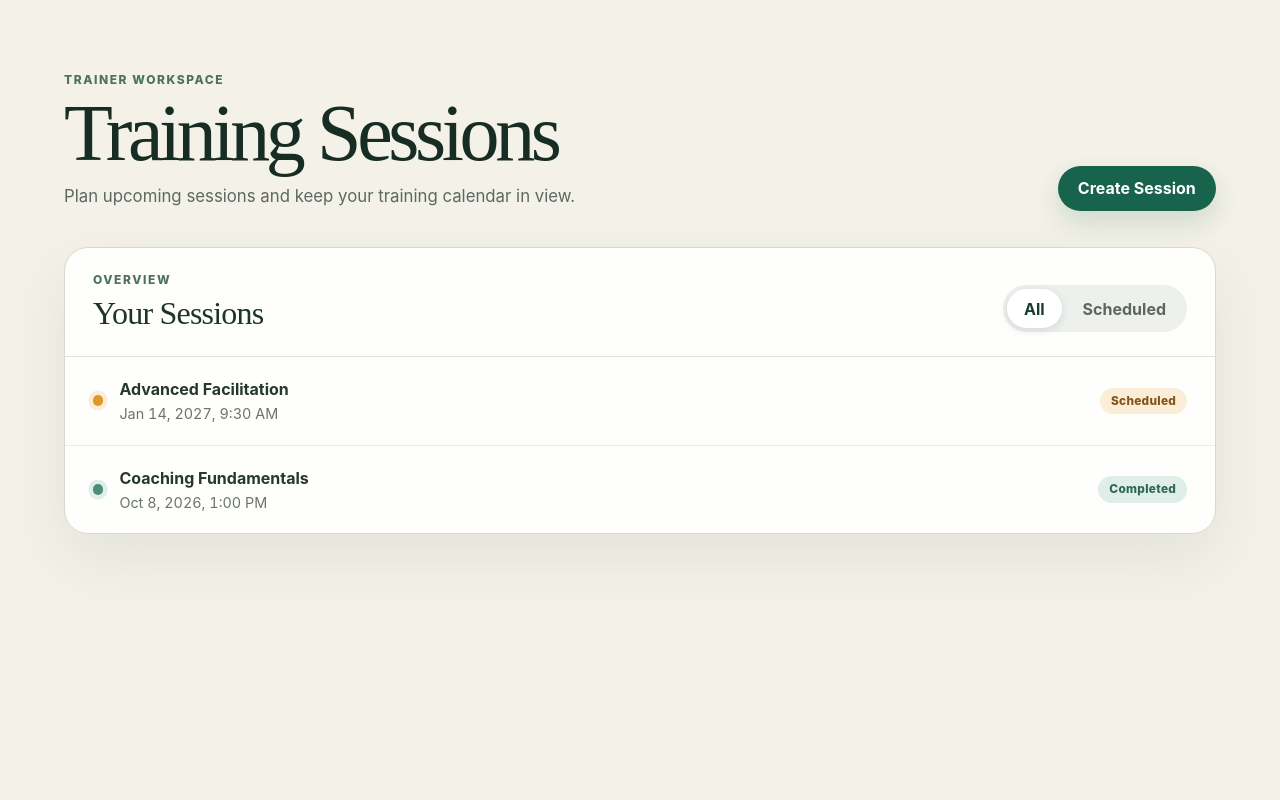
Test: Training Sessions workspace › prevents a second create while the first request is pending
expect the heading "Advanced Facilitation" is shown: met, box [119,379,289,401]
Click the button "Create Session" at (1137, 188), box [1058,166,1216,211]
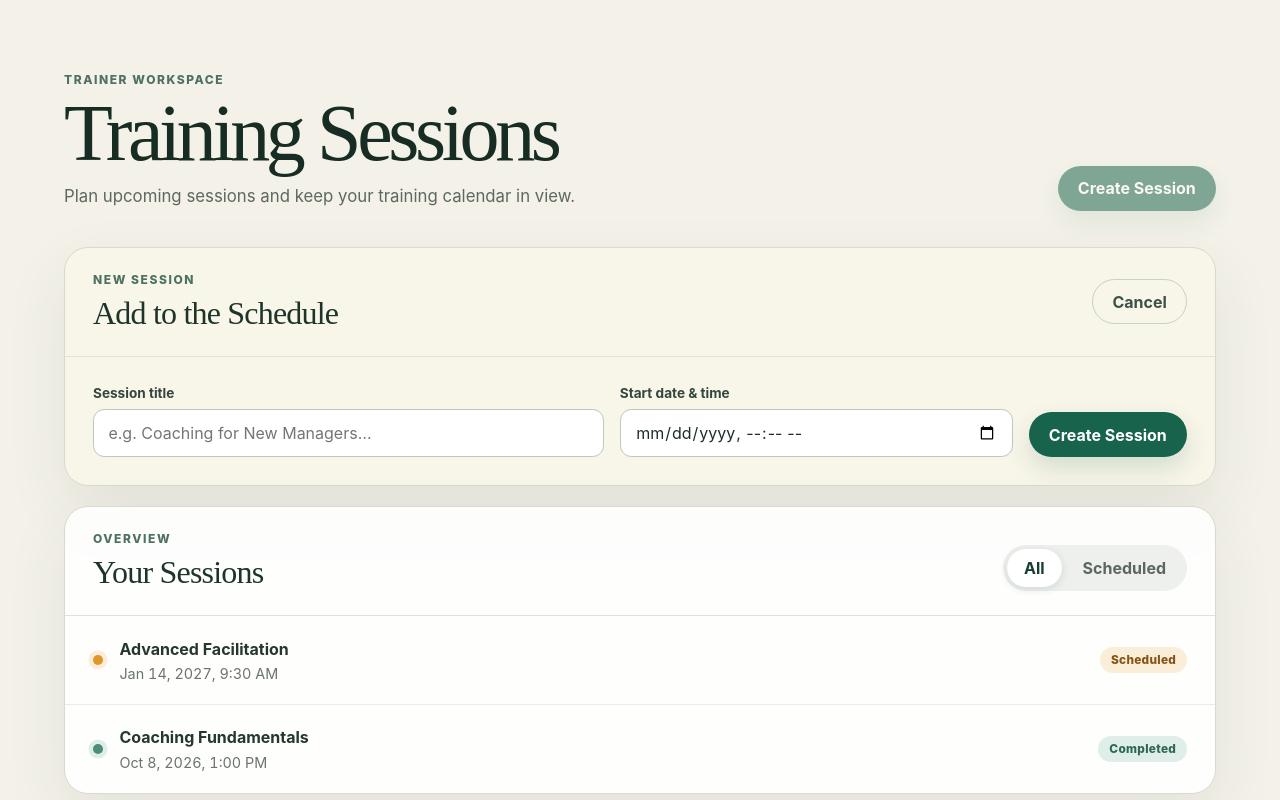
Type "Pending Session" into the field labelled "Session title" at (348, 433), box [93,409,604,457]
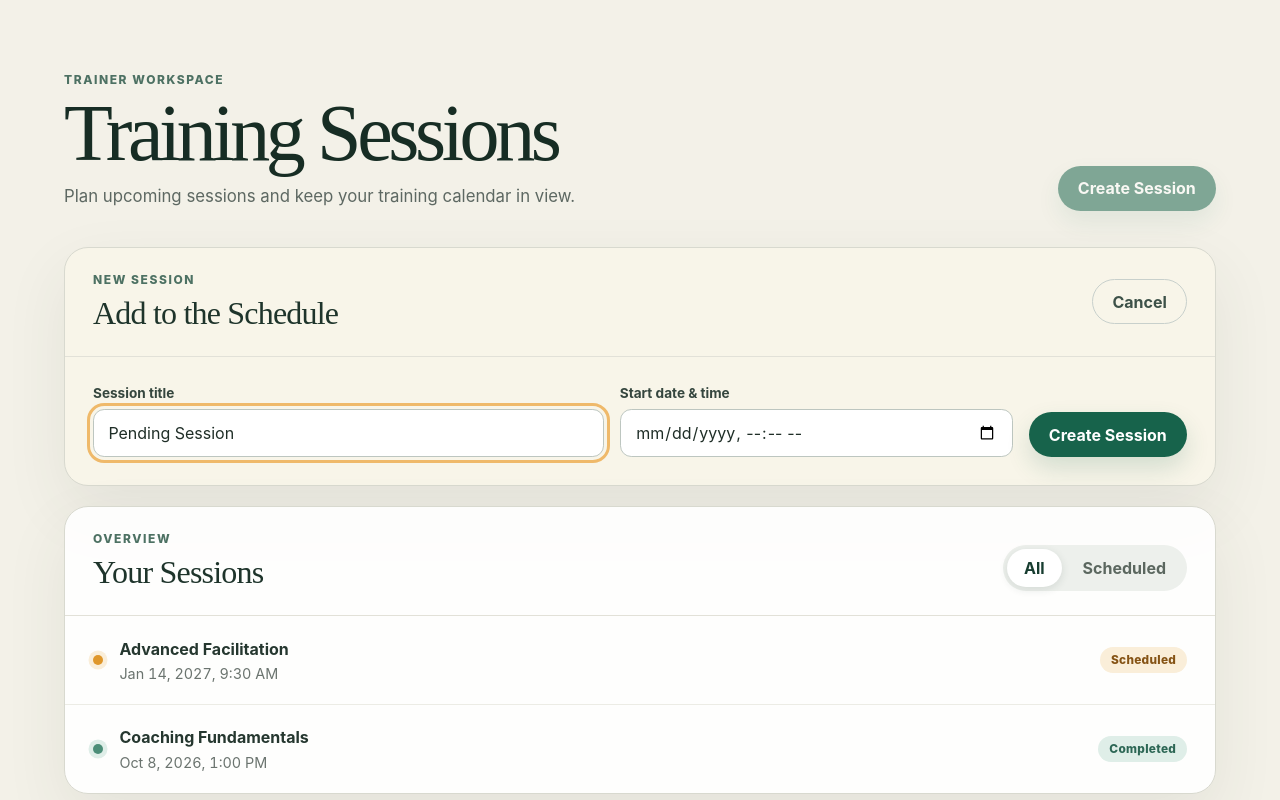
Type "2099-06-18T12:30" into the field labelled "Start date & time" at (816, 433), box [620,409,1013,457]
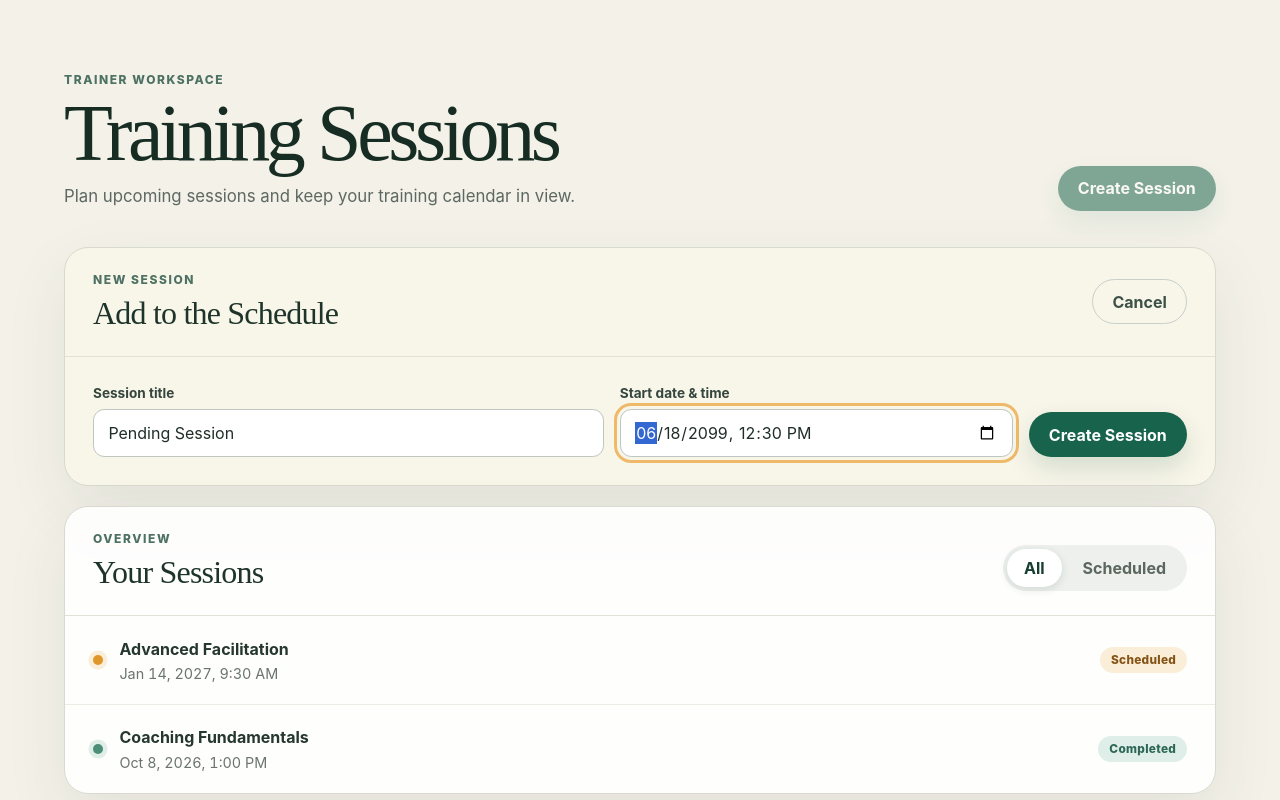
Click the 2nd button "Create Session" at (1108, 435), box [1029,412,1187,457]
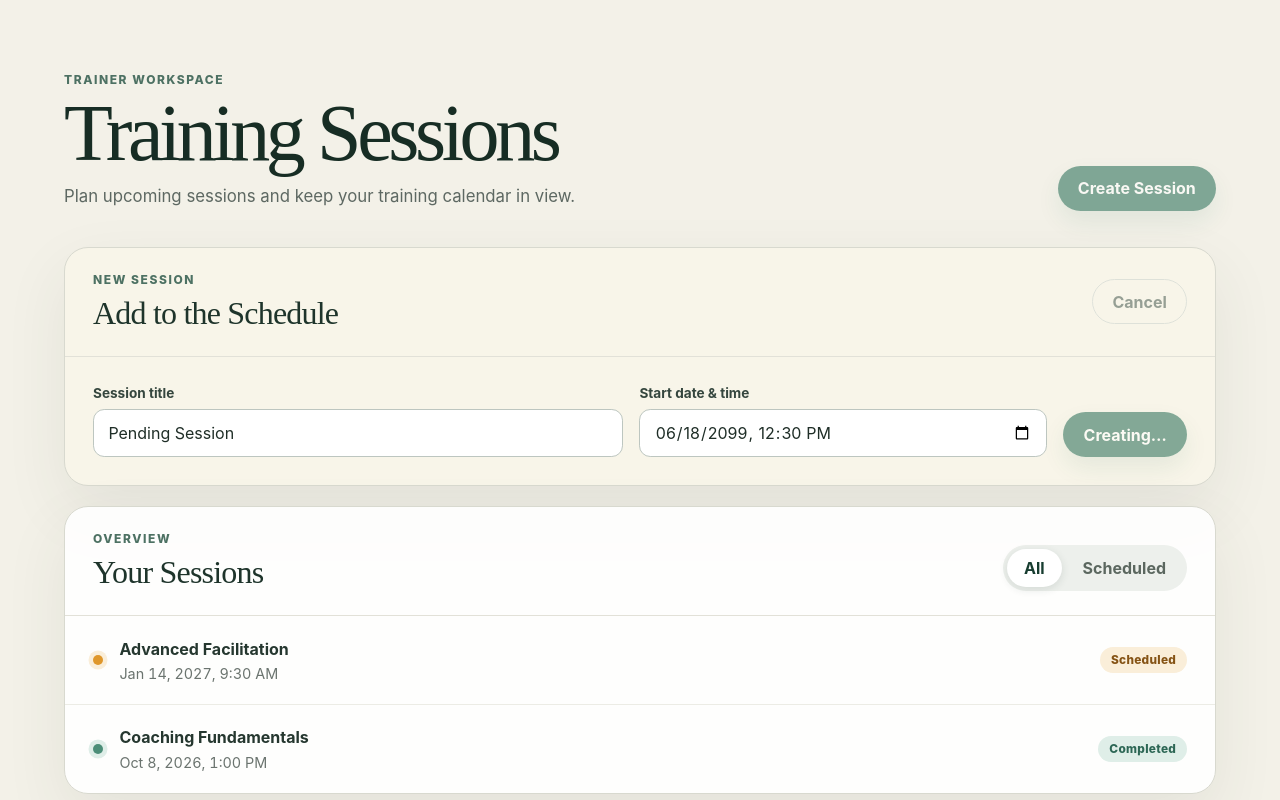
expect the button "Creating…" is disabled: met
Click the button "Creating…" at (1125, 435), box [1063,412,1187,457]
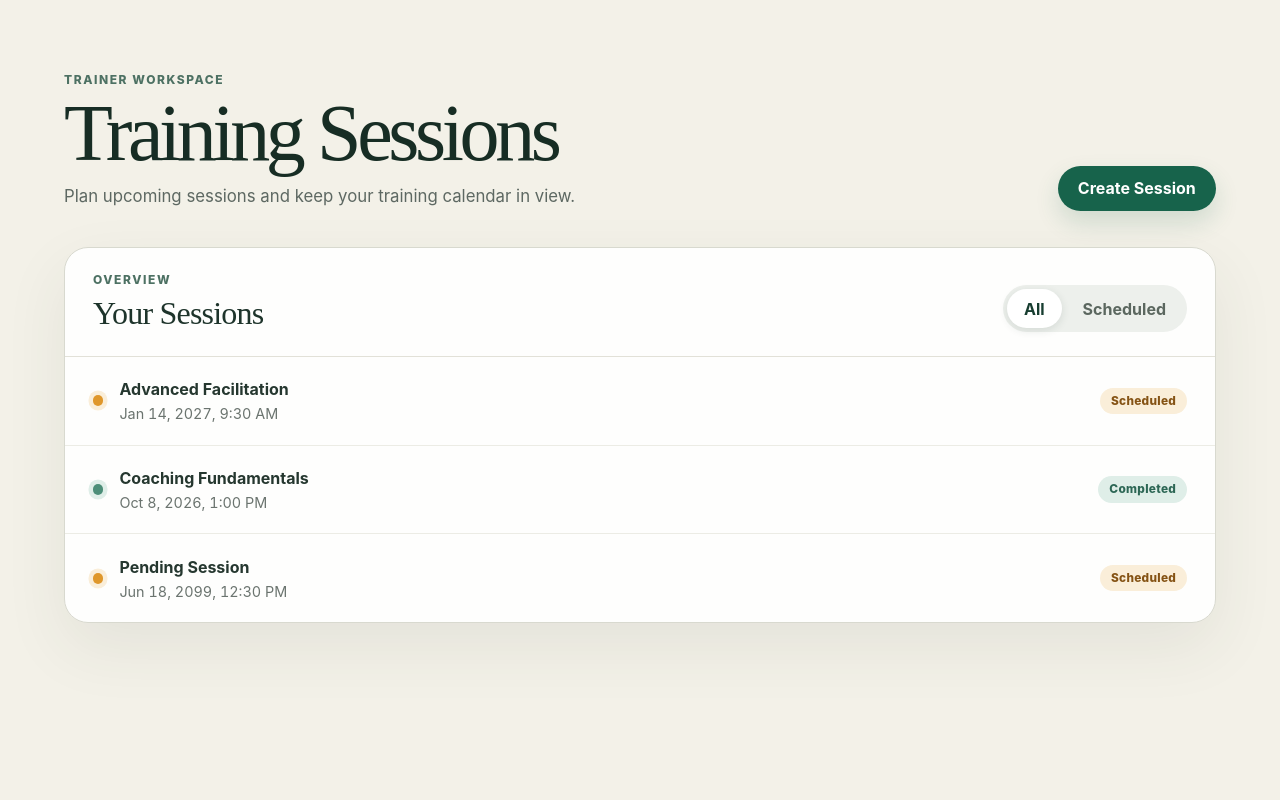
expect the heading "Pending Session" is shown: met, box [119,557,249,577]
